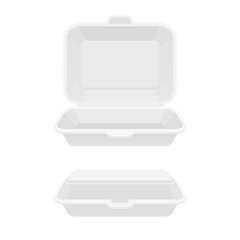styrofoam: (55, 14, 186, 148), (52, 167, 185, 218)
